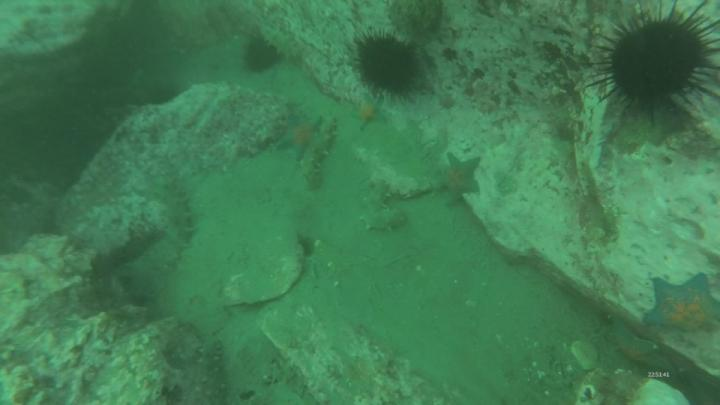echinus: (603, 18, 720, 105), (355, 36, 424, 98), (248, 40, 280, 70)
holothurian: (158, 186, 197, 274), (304, 115, 337, 190), (362, 184, 408, 232), (200, 343, 226, 405)
starfish: (645, 275, 718, 336), (440, 156, 481, 205), (278, 118, 320, 159), (352, 100, 387, 129)
